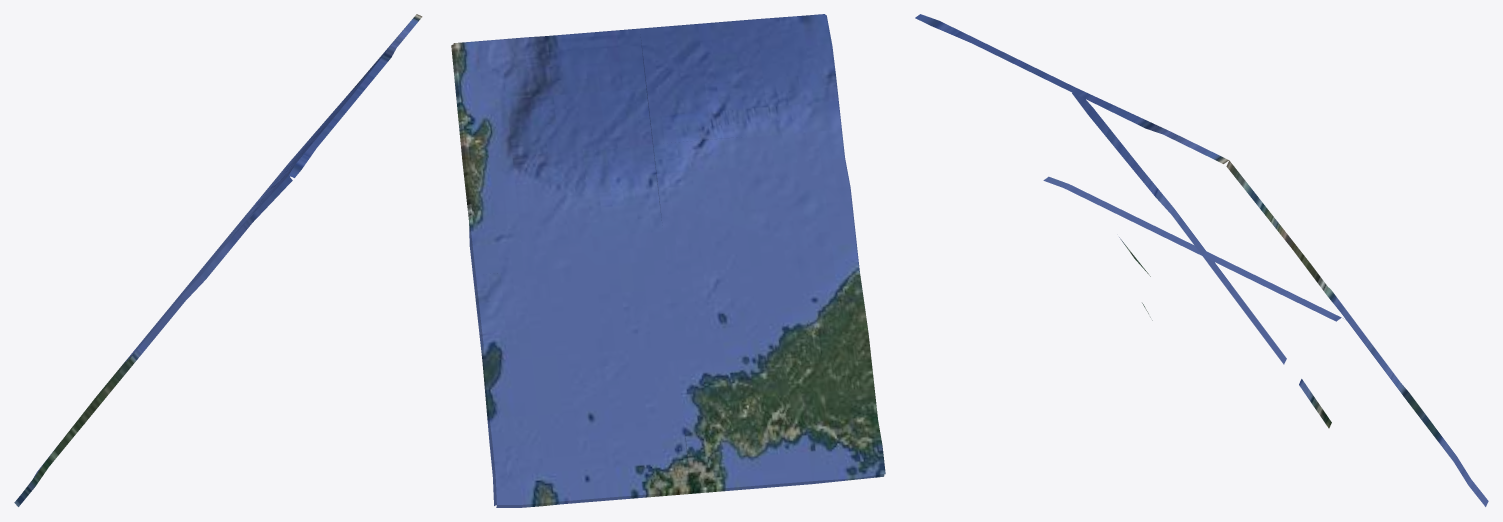
3 views of the same model, side by side, from view 1: azimuth 30°, elevation 25°; view 2: azimuth 150°, elevation 25°; view 3: azimuth 270°, elevation 25° (orthographic). The views are drawn at different scales.
Bounding box in the file's own units: 315260 × 259651 × 309024.
1 material, 1 textured.
